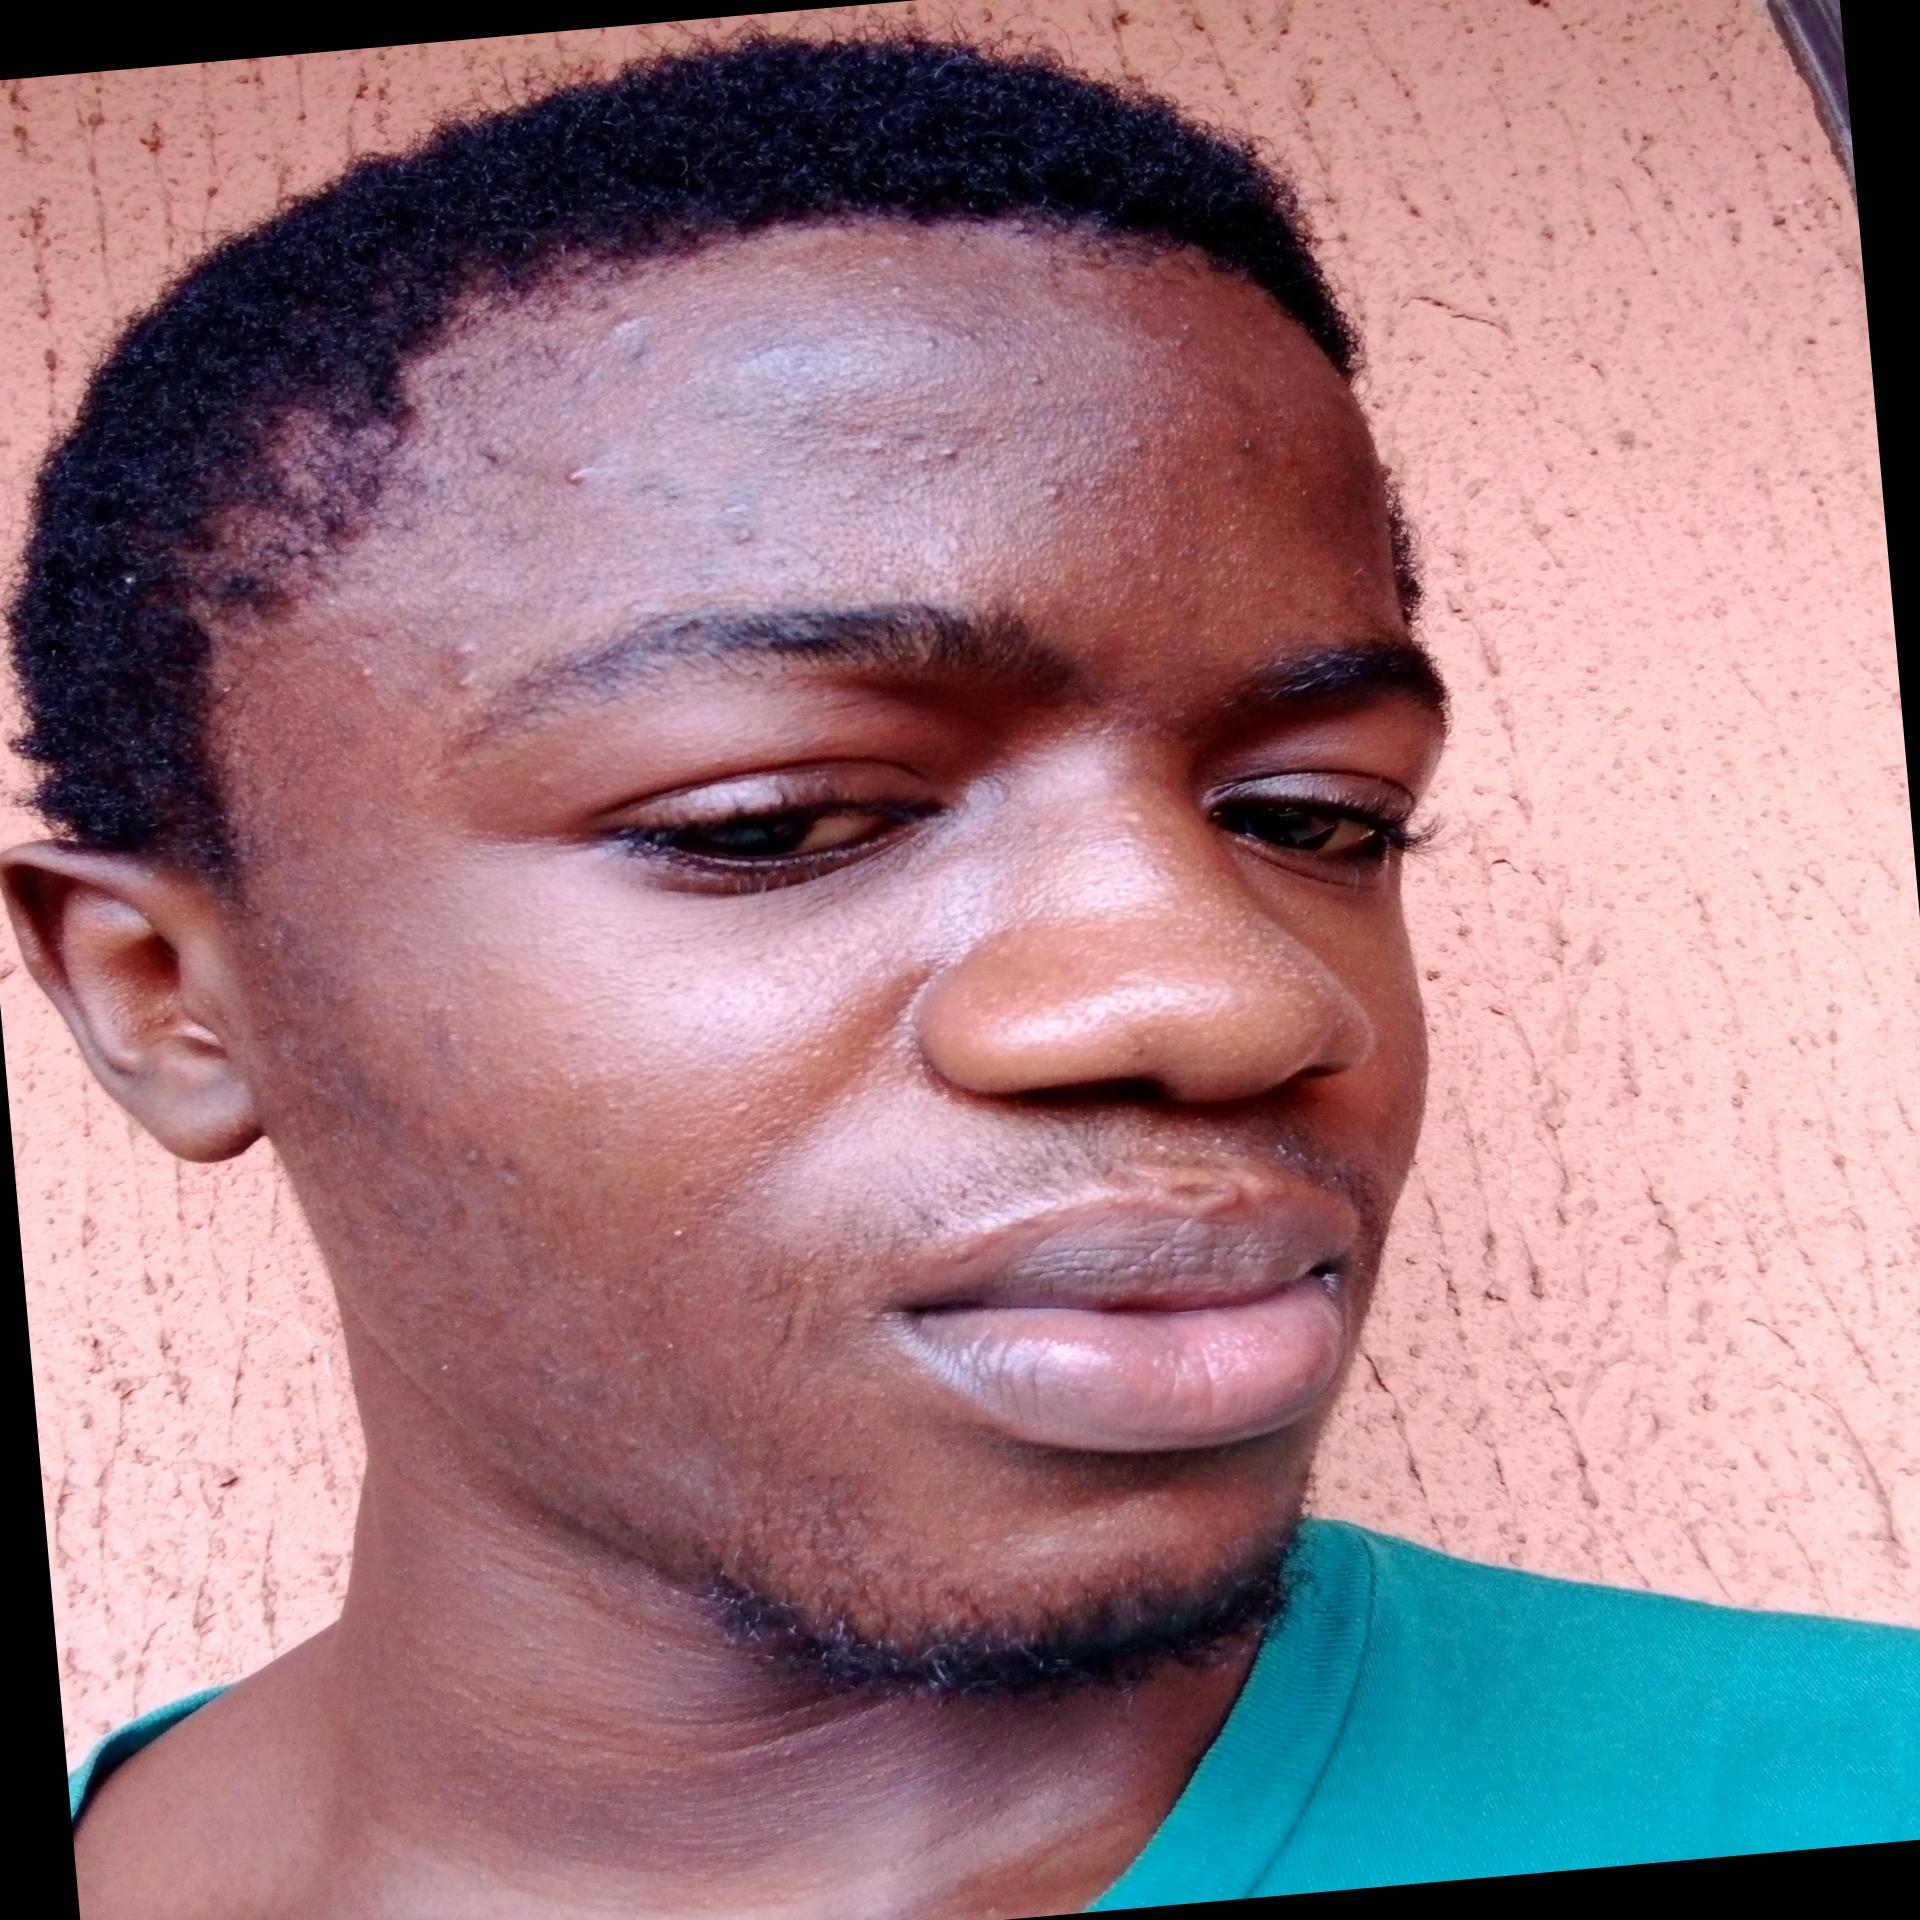Acne: (436, 635, 482, 702), (628, 471, 691, 510), (897, 443, 969, 469), (598, 313, 651, 346), (547, 466, 594, 498), (1167, 315, 1201, 357), (346, 656, 383, 691), (1227, 431, 1264, 464), (454, 1143, 494, 1173), (1115, 429, 1153, 459), (1032, 478, 1073, 506), (714, 496, 756, 522), (853, 433, 900, 455), (726, 519, 761, 549), (615, 345, 652, 369), (1034, 445, 1069, 469), (566, 367, 603, 387), (884, 276, 911, 301), (1015, 371, 1048, 390), (983, 427, 1011, 450), (661, 1224, 689, 1245), (531, 768, 556, 791), (953, 327, 981, 346), (918, 332, 946, 350), (1146, 566, 1164, 589)
